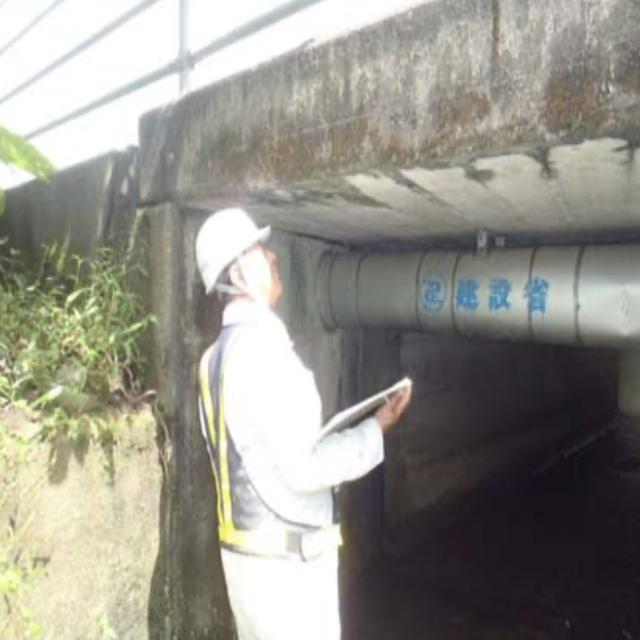freelime: (234, 160, 340, 211)
